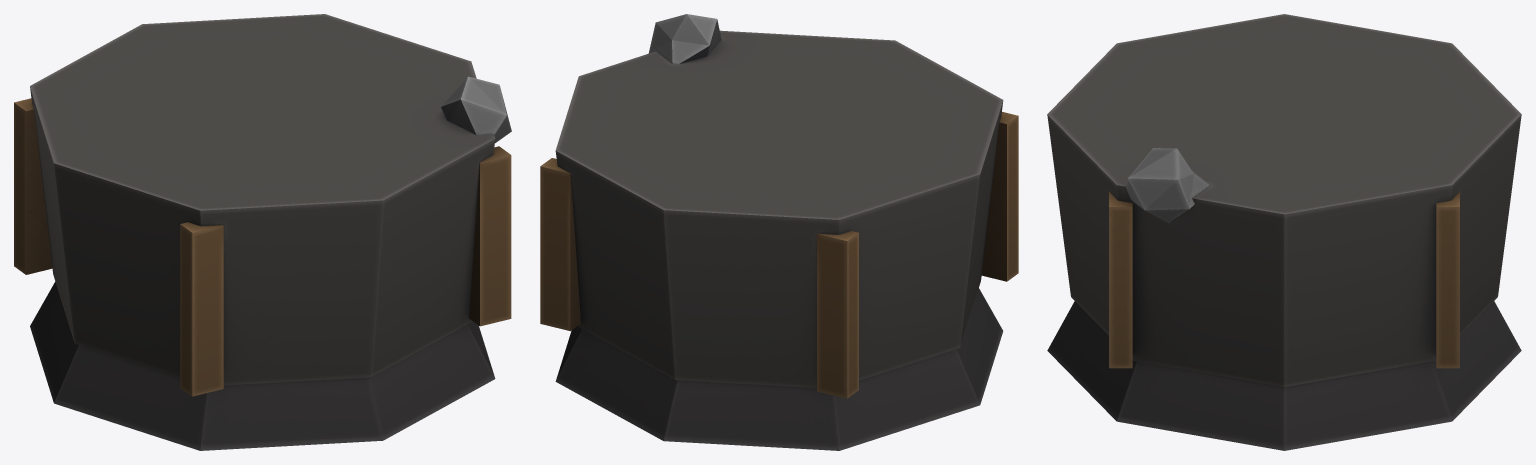
File: obj_basin.glb
3 views of the same model, side by side, from view 1: azimuth 30°, elevation 25°; view 2: azimuth 150°, elevation 25°; view 3: azimuth 270°, elevation 25° (orthographic). The views are drawn at different scales.
Visible parts, largest first — view 1: obj_basin; view 2: obj_basin; view 3: obj_basin.
Boxes of the visible parts, x1,y1,x2,y2 form: obj_basin: [14, 14, 511, 450]; obj_basin: [540, 14, 1018, 450]; obj_basin: [1047, 14, 1521, 450].
Bounding box in the file's own units: 0.8 × 0.5114 × 0.8.
Materials: 1 (1 with a texture image).
